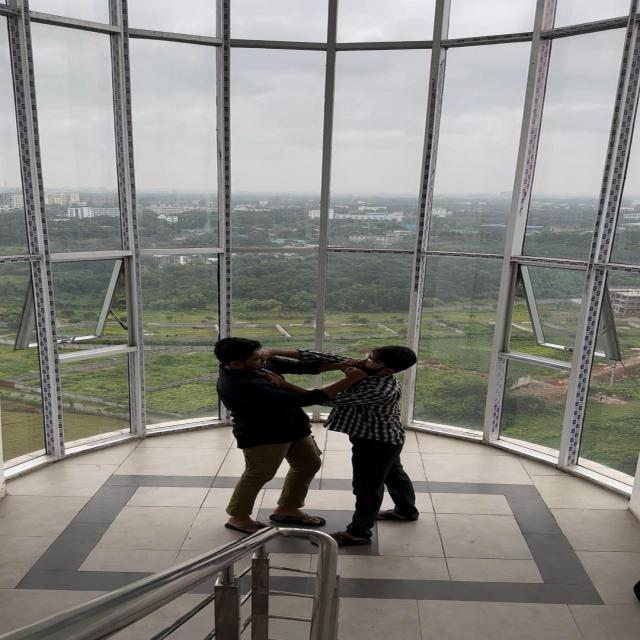fight: (194, 323, 451, 557)
